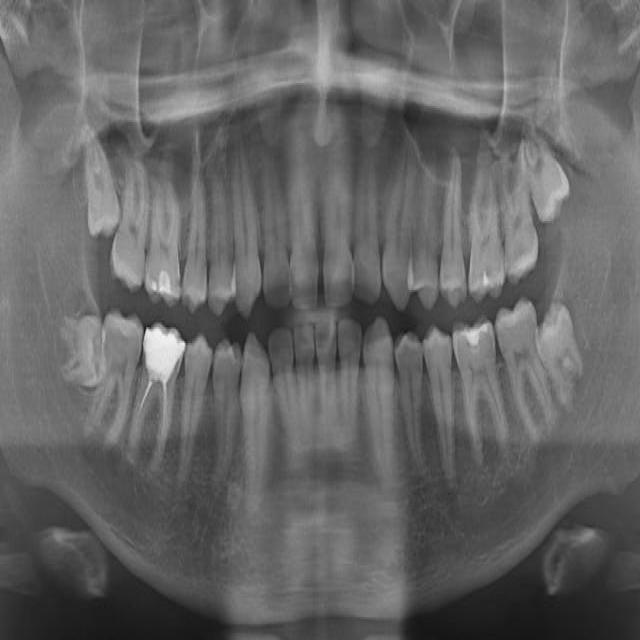dolgu: (453, 316, 493, 371), (144, 258, 181, 311)
kanal-tedavisi: (136, 369, 172, 457)
kaplama: (140, 318, 187, 379)
